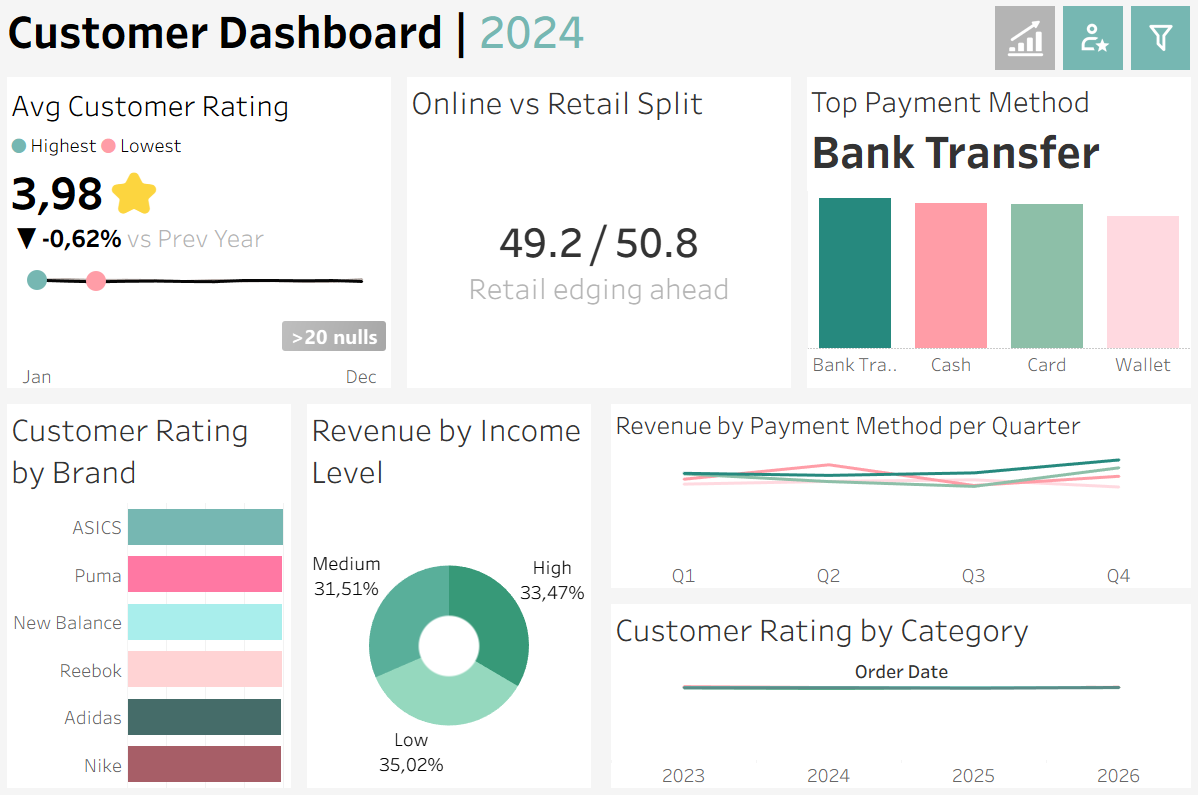

This screenshot's page, from the dashboard's own definition file:
{"tool":"tableau","page":{"name":"Customer Dashboard","canvas":[1200,800],"ordinal":0},"visuals":[{"type":"text","box":[0,0,1200,69]},{"type":"dashboard-object","box":[992,6,68,72]},{"type":"dashboard-object","box":[1060,6,68,72]},{"type":"dashboard-object","box":[1128,6,67,72]},{"type":"text","box":[0,73,400,63]},{"type":"worksheet","title":"Online vs Retail Split","mark":"Text","box":[400,73,400,327]},{"type":"worksheet","title":"Top Payment Method","mark":"Automatic","rows":["Calculation_3108609645685035015"],"cols":["payment_method"],"box":[800,73,400,327]},{"type":"text","box":[919,87,276,57]},{"type":"text","box":[0,136,400,25]},{"type":"parameter","param":"[Parameters].[Parameter 1]","box":[919,144,276,60]},{"type":"worksheet","title":"Avg Customer Rating","mark":"Automatic","rows":["Calculation_3108609645699596306"],"cols":["order_date"],"box":[0,161,400,239]},{"type":"blank","box":[919,204,276,40]},{"type":"text","box":[919,244,276,33]},{"type":"filter","title":"Customer Rating by Brand","param":"[federated.1iavkvq1rri7u617tmii90vnny2a].[none:brand:nk]","box":[919,277,276,70]},{"type":"filter","title":"Customer Rating by Brand","param":"[federated.1iavkvq1rri7u617tmii90vnny2a].[none:category:nk]","box":[919,347,276,70]},{"type":"worksheet","title":"Customer Rating by Brand","mark":"Automatic","rows":["brand"],"cols":["Calculation_3108609645649580034"],"box":[0,400,300,400]},{"type":"worksheet","title":"Revenue by Income Level","mark":"Pie","cols":["Calculation_3108609645693354000","Calculation_3108609645693354000"],"box":[300,400,300,400]},{"type":"worksheet","title":"Revenue by Payment Method Q","mark":"Line","rows":["Calculation_1601592620055179264"],"cols":["order_date"],"box":[604,404,592,196]},{"type":"blank","box":[919,417,276,37]},{"type":"text","box":[919,454,276,33]},{"type":"filter","title":"Customer Rating by Brand","param":"[federated.1iavkvq1rri7u617tmii90vnny2a].[none:payment_method:nk]","box":[919,487,276,70]},{"type":"filter","title":"Revenue by Income Level","param":"[federated.1iavkvq1rri7u617tmii90vnny2a].[none:customer_income_level:nk]","box":[919,557,276,70]},{"type":"worksheet","title":"Customer Rating by Category","mark":"Automatic","rows":["customer_rating"],"cols":["order_date"],"box":[604,600,592,196]},{"type":"blank","box":[919,627,276,43]},{"type":"text","box":[919,670,276,33]},{"type":"filter","title":"Customer Rating by Brand","param":"[federated.1iavkvq1rri7u617tmii90vnny2a].[none:country:nk]","box":[919,703,276,70]}]}

Visuals, with their boxes in screenshot pixels (x1, y1, x2, y2), scaled from the page's 1200x800 canvas onto the 1198x795 screenshot:
text: 0,0,1197,69
dashboard-object: 990,6,1058,78
dashboard-object: 1058,6,1126,78
dashboard-object: 1126,6,1193,78
text: 0,73,399,135
"Online vs Retail Split" worksheet (Text marks): 399,73,799,398
"Top Payment Method" worksheet: 799,73,1197,398
text: 917,86,1193,143
text: 0,135,399,160
parameter: 917,143,1193,203
"Avg Customer Rating" worksheet: 0,160,399,398
blank: 917,203,1193,242
text: 917,242,1193,275
"Customer Rating by Brand" filter: 917,275,1193,345
"Customer Rating by Brand" filter: 917,345,1193,414
"Customer Rating by Brand" worksheet: 0,398,300,794
"Revenue by Income Level" worksheet (Pie marks): 300,398,599,794
"Revenue by Payment Method Q" worksheet (Line marks): 603,401,1194,596
blank: 917,414,1193,451
text: 917,451,1193,484
"Customer Rating by Brand" filter: 917,484,1193,554
"Revenue by Income Level" filter: 917,554,1193,623
"Customer Rating by Category" worksheet: 603,596,1194,791
blank: 917,623,1193,666
text: 917,666,1193,699
"Customer Rating by Brand" filter: 917,699,1193,768
